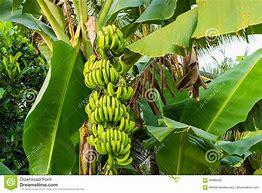banana: (80, 23, 139, 164), (80, 20, 137, 93), (84, 93, 136, 166)
